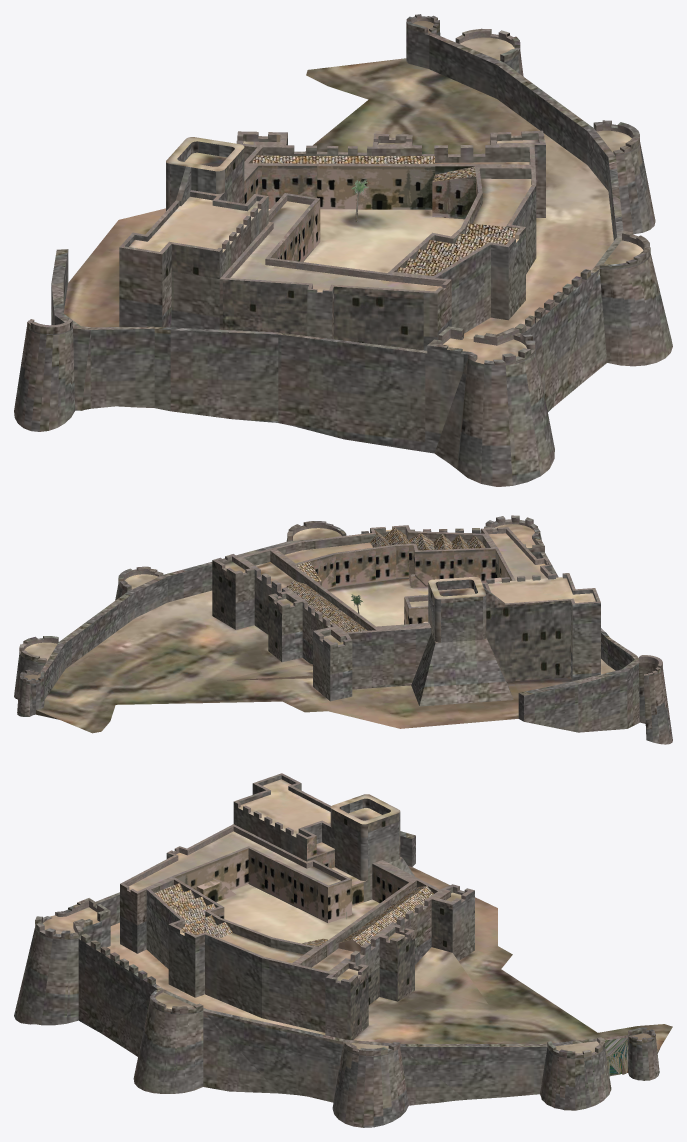
The model's file is Castello Di Milazzo in Messina.FBX.
3 views of the same model, one above another, from view 1: azimuth 30°, elevation 25°; view 2: azimuth 150°, elevation 25°; view 3: azimuth 270°, elevation 25° (orthographic). The views are drawn at different scales.
Visible parts, largest first — view 1: Model; view 2: Model; view 3: Model.
Boxes of the visible parts, left/top/right/bottom form: Model: left=14, top=14, right=672, bottom=486; Model: left=14, top=515, right=672, bottom=744; Model: left=14, top=773, right=672, bottom=1127.
Size of the model in its own units: 155 by 43.66 by 158.
16 materials, 15 textured.
